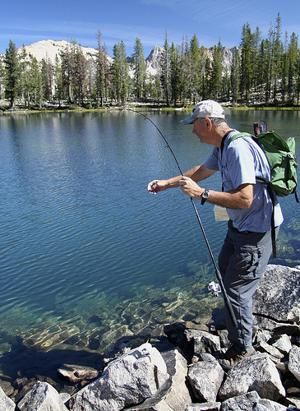person: (146, 99, 284, 372)
